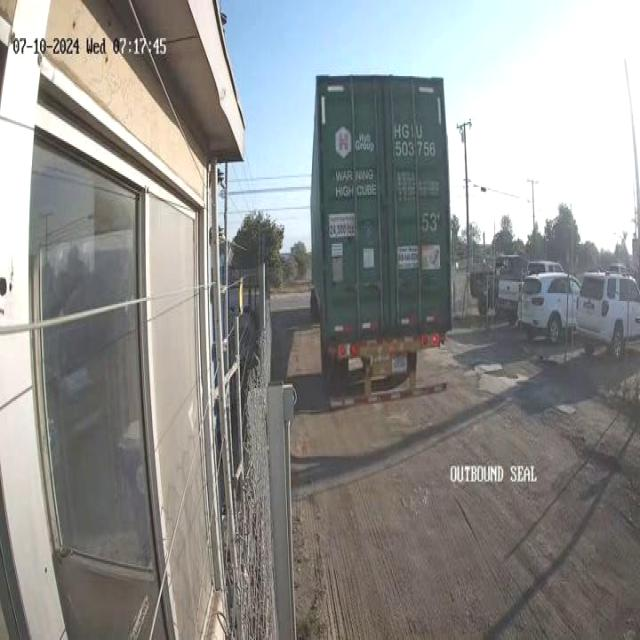TRUCK_CONTAINER: (307, 73, 453, 413)
